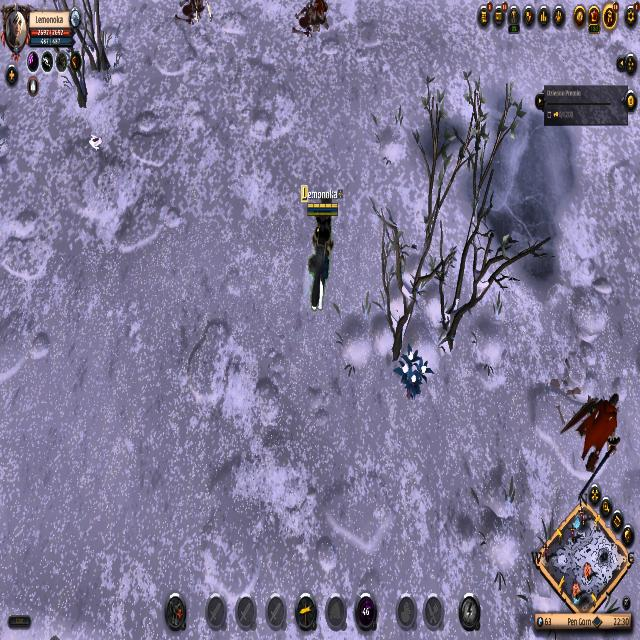fiber tier 4: (394, 342, 434, 405)
